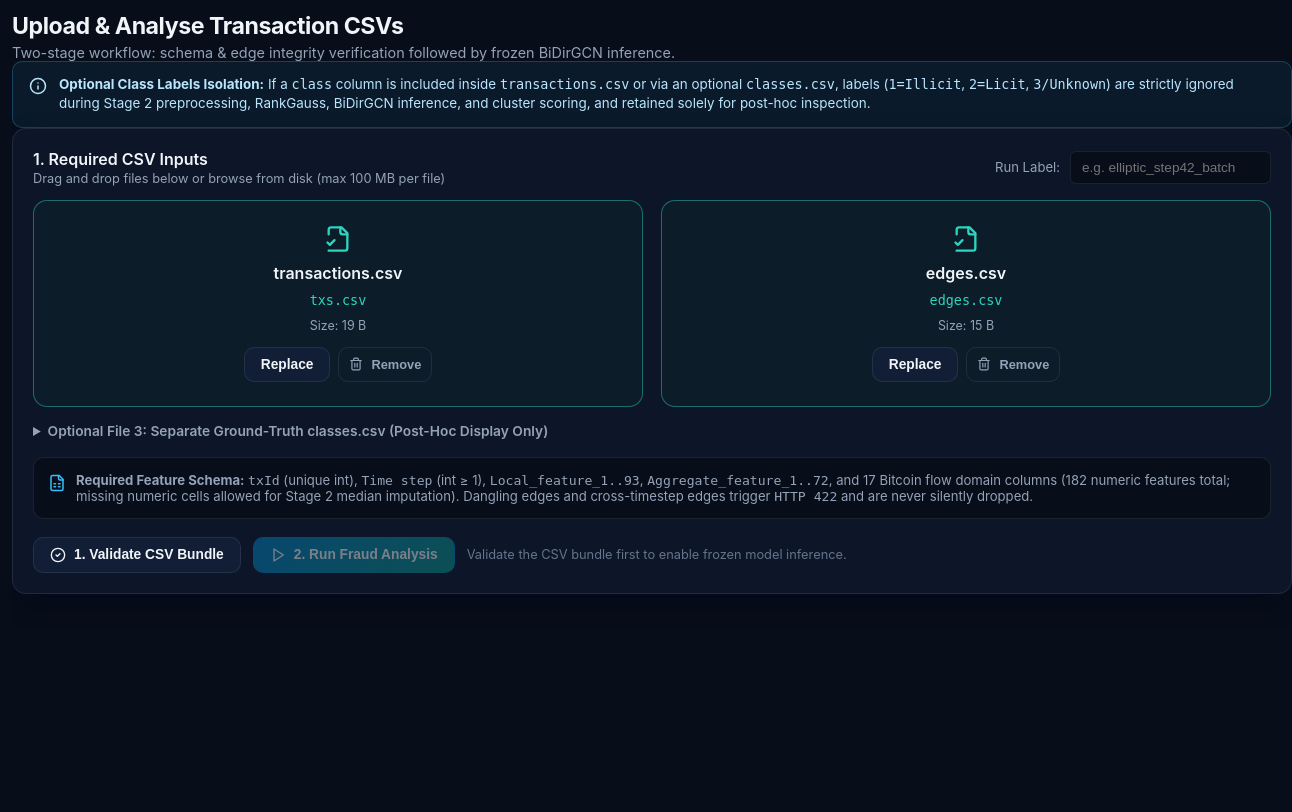
UploadPage drag-and-drop and validation gating › supports drag-and-drop selection, rejects wrong extensions, and keeps Analyze disabled until validated
Earlier steps of the test are not shown.
Later steps or results of the test are not shown.
Check: the button "2. Run Fraud Analysis" is disabled, box [253,537,455,573]
Click the button "1. Validate CSV Bundle": (137, 555) [33,537,241,573]
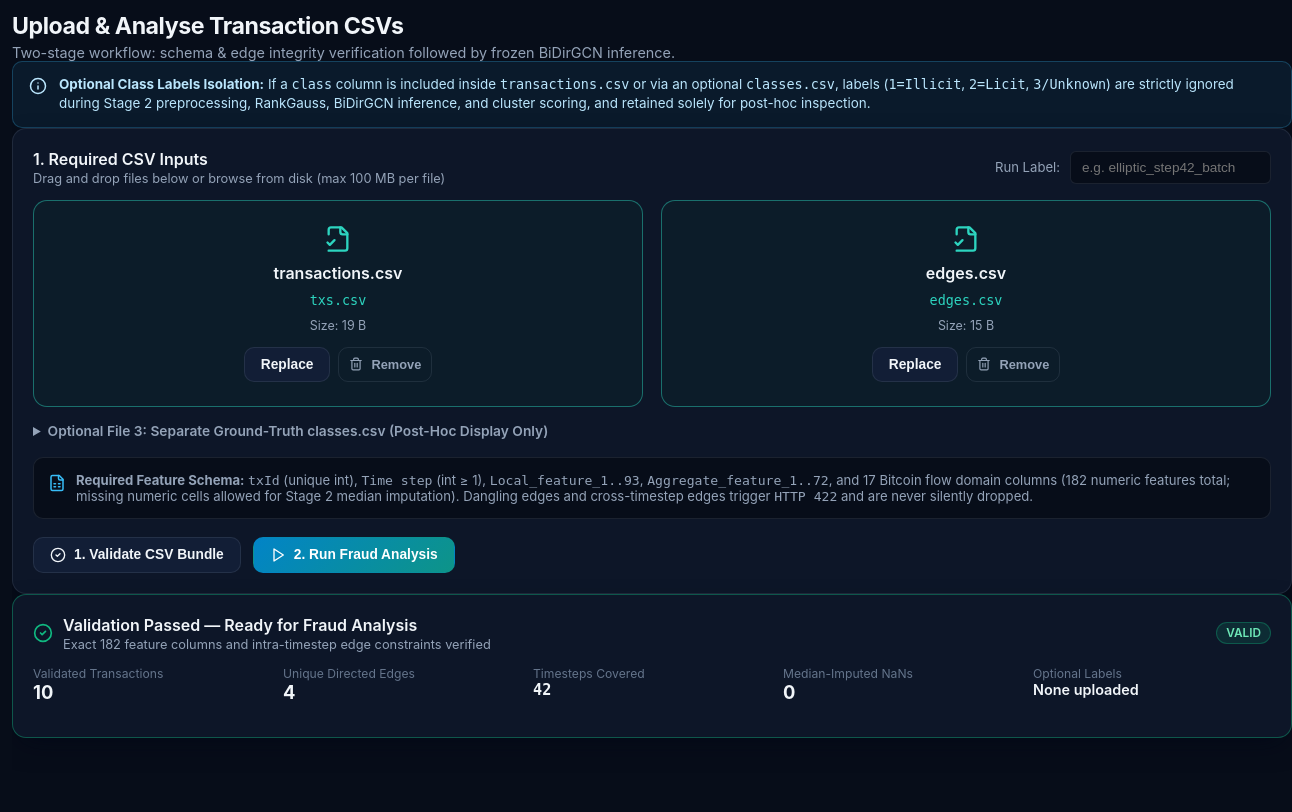
Check: the heading "Validation Passed — Ready for Fraud Analysis" is shown, box [63,615,417,635]
Check: the button "2. Run Fraud Analysis" is enabled, box [253,537,455,573]
